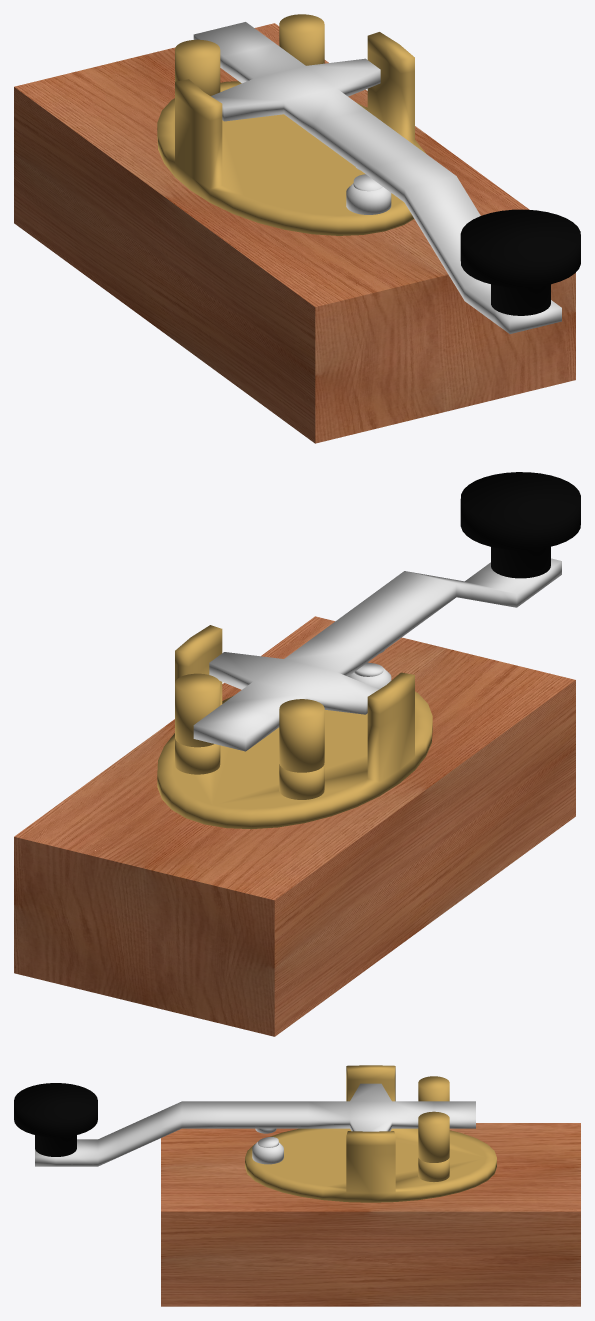
The model's file is SM_TelegraphKey_v00e18.fbx.
3 renders of one model, top to bottom at view 1: azimuth 30°, elevation 25°; view 2: azimuth 150°, elevation 25°; view 3: azimuth 270°, elevation 25°, orthographic. The views are drawn at different scales.
Visible parts, largest first — view 1: TelegraphBaseParts, TelegraphKeyArm; view 2: TelegraphBaseParts, TelegraphKeyArm; view 3: TelegraphBaseParts, TelegraphKeyArm.
Boxes of the visible parts, box(x1,y1,x2,y2) form: TelegraphBaseParts: box(14, 14, 575, 443); TelegraphKeyArm: box(193, 22, 580, 333); TelegraphBaseParts: box(14, 616, 575, 1036); TelegraphKeyArm: box(193, 472, 580, 751); TelegraphBaseParts: box(161, 1065, 580, 1306); TelegraphKeyArm: box(14, 1083, 475, 1166).
Bounding box in the file's own units: 100 × 85 × 270.
